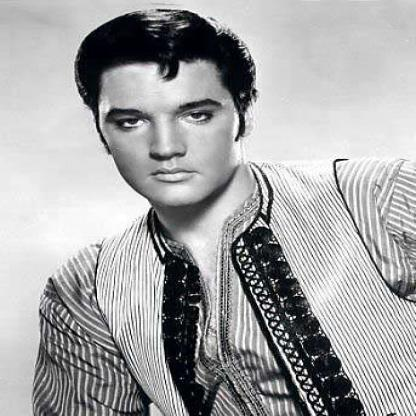face: (100, 32, 245, 209)
